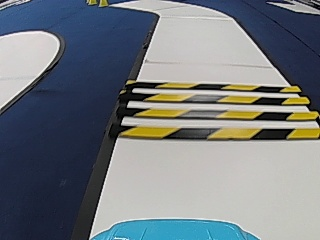bump: (113, 73, 318, 150)
